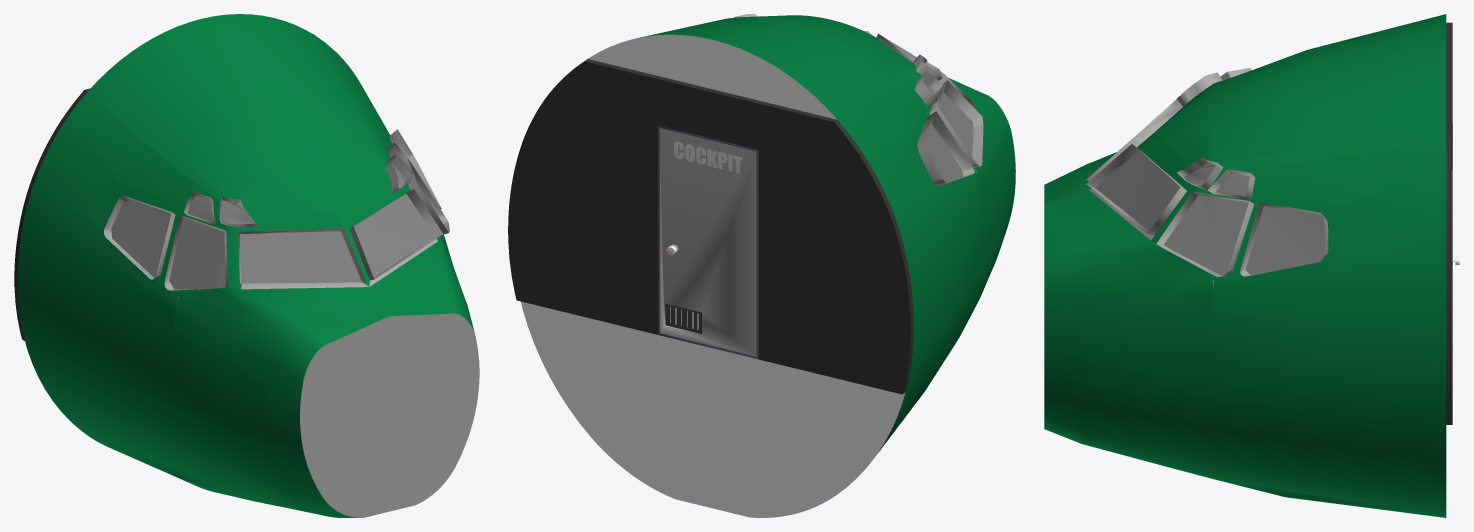
Rendered from Cockpit.fbx.
3 renders of one model, left to right at view 1: azimuth 30°, elevation 25°; view 2: azimuth 150°, elevation 25°; view 3: azimuth 270°, elevation 25°, orthographic. The views are drawn at different scales.
Parts seen in each view (by area): view 1: Layer0_001, Group#16_001, Group#16_002, Group#1_002, Group#17_002, Group#1_001, Group#19_001, Group#18_001, Group#19_002, Group#17_001; view 2: Layer0_001, Airplane Bathroom_001, Group#17_002, Group#1_002, COCKPIT_001, Grill_18x9_001, Group#18_001, Grill_18x9_002; view 3: Layer0_001, Group#1_001, Group#17_001, Group#16_002, Group#18_002, Group#19_002, Group#16_001, Group#19_001.
Part boxes in pixels (x1=…): Layer0_001: x1=14, y1=14, x2=479, y2=517; Group#16_001: x1=238, y1=228, x2=365, y2=283; Group#16_002: x1=349, y1=189, x2=442, y2=280; Group#1_002: x1=164, y1=215, x2=227, y2=290; Group#17_002: x1=104, y1=196, x2=175, y2=279; Group#1_001: x1=407, y1=159, x2=449, y2=234; Group#19_001: x1=219, y1=196, x2=257, y2=226; Group#18_001: x1=184, y1=191, x2=215, y2=224; Group#19_002: x1=385, y1=154, x2=412, y2=193; Group#17_001: x1=389, y1=129, x2=441, y2=208; Layer0_001: x1=508, y1=15, x2=1015, y2=517; Airplane Bathroom_001: x1=657, y1=125, x2=758, y2=359; Group#17_002: x1=917, y1=111, x2=974, y2=186; Group#1_002: x1=929, y1=80, x2=983, y2=167; COCKPIT_001: x1=674, y1=141, x2=742, y2=173; Grill_18x9_001: x1=665, y1=303, x2=701, y2=333; Group#18_001: x1=914, y1=71, x2=942, y2=107; Grill_18x9_002: x1=667, y1=306, x2=700, y2=330; Layer0_001: x1=1044, y1=14, x2=1452, y2=517; Group#1_001: x1=1156, y1=191, x2=1254, y2=276; Group#17_001: x1=1240, y1=202, x2=1328, y2=276; Group#16_002: x1=1086, y1=144, x2=1186, y2=235; Group#18_002: x1=1207, y1=169, x2=1255, y2=199; Group#19_002: x1=1177, y1=157, x2=1222, y2=189; Group#16_001: x1=1086, y1=99, x2=1182, y2=180; Group#19_001: x1=1177, y1=72, x2=1222, y2=106.
Size of the model in its own units: 125 by 139 by 114.
